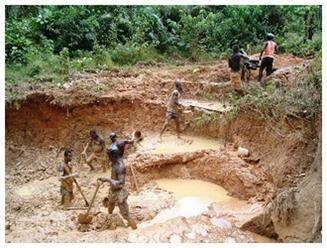MiningTool: (78, 177, 101, 225), (132, 128, 146, 142)
Person: (102, 146, 137, 228), (159, 81, 184, 144), (57, 150, 84, 204), (79, 125, 107, 172), (226, 45, 248, 97), (257, 32, 279, 84), (107, 129, 135, 168)
